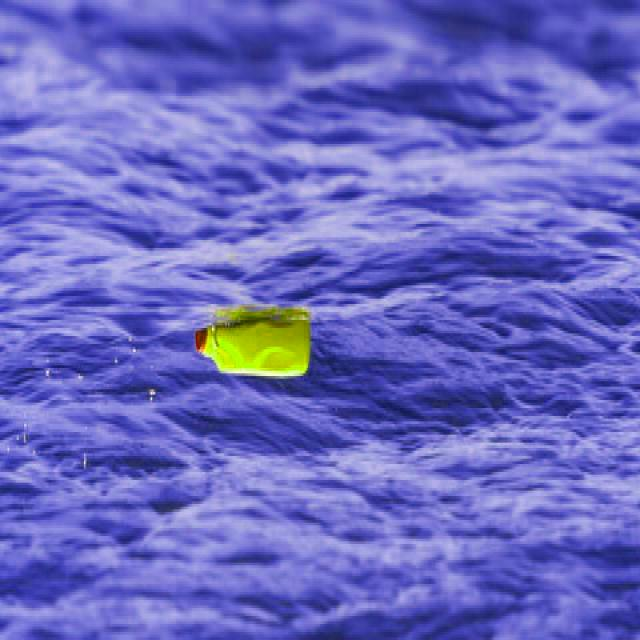Plastic: (192, 305, 316, 384)
